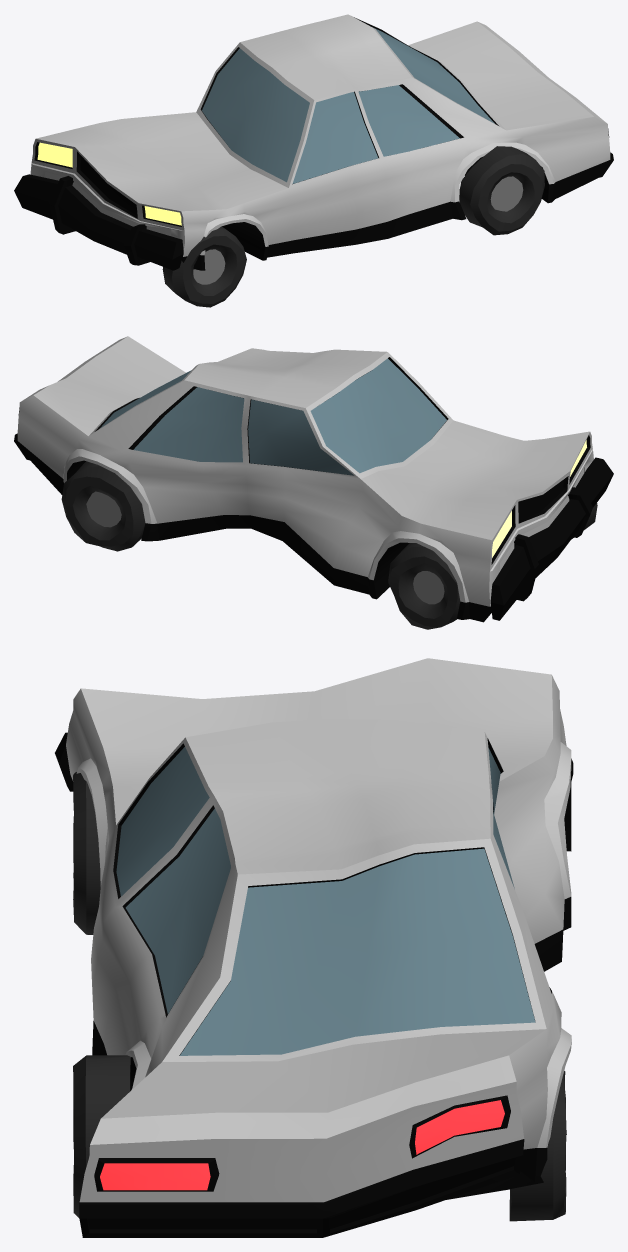
Rendered from civil_car_broken_new.fbx.
3 views of the same model, one above another, from view 1: azimuth 30°, elevation 25°; view 2: azimuth 150°, elevation 25°; view 3: azimuth 270°, elevation 25° (orthographic). The views are drawn at different scales.
Parts seen in each view (by area): view 1: car, wheel_back_left, wheel_front_left; view 2: car, wheel_back_right, wheel_front_right; view 3: car, wheel_back_left, wheel_front_left, wheel_back_right.
Boxes of the visible parts, bbox=[...] form: car: bbox=[14, 14, 613, 270]; wheel_back_left: bbox=[459, 146, 544, 235]; wheel_front_left: bbox=[162, 226, 246, 307]; car: bbox=[14, 336, 613, 622]; wheel_back_right: bbox=[61, 461, 145, 551]; wheel_front_right: bbox=[388, 543, 460, 629]; car: bbox=[55, 658, 573, 1237]; wheel_back_left: bbox=[73, 1055, 130, 1217]; wheel_front_left: bbox=[73, 772, 100, 934]; wheel_back_right: bbox=[509, 1071, 566, 1221].
Size of the model in its own units: 403 by 133 by 190.
